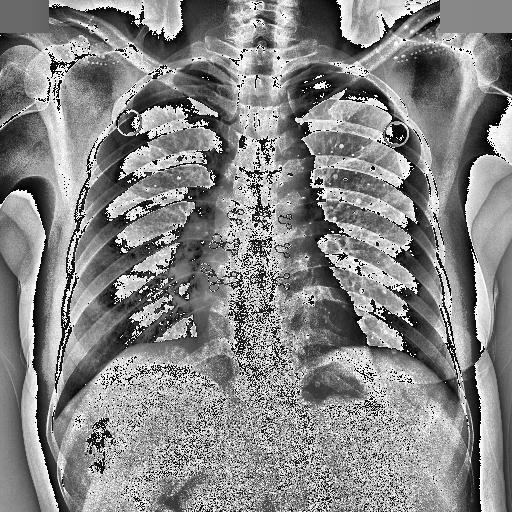9- Other lesion: (218, 171, 324, 478), (219, 142, 313, 432), (220, 247, 312, 440), (82, 416, 128, 474), (80, 418, 128, 470)
